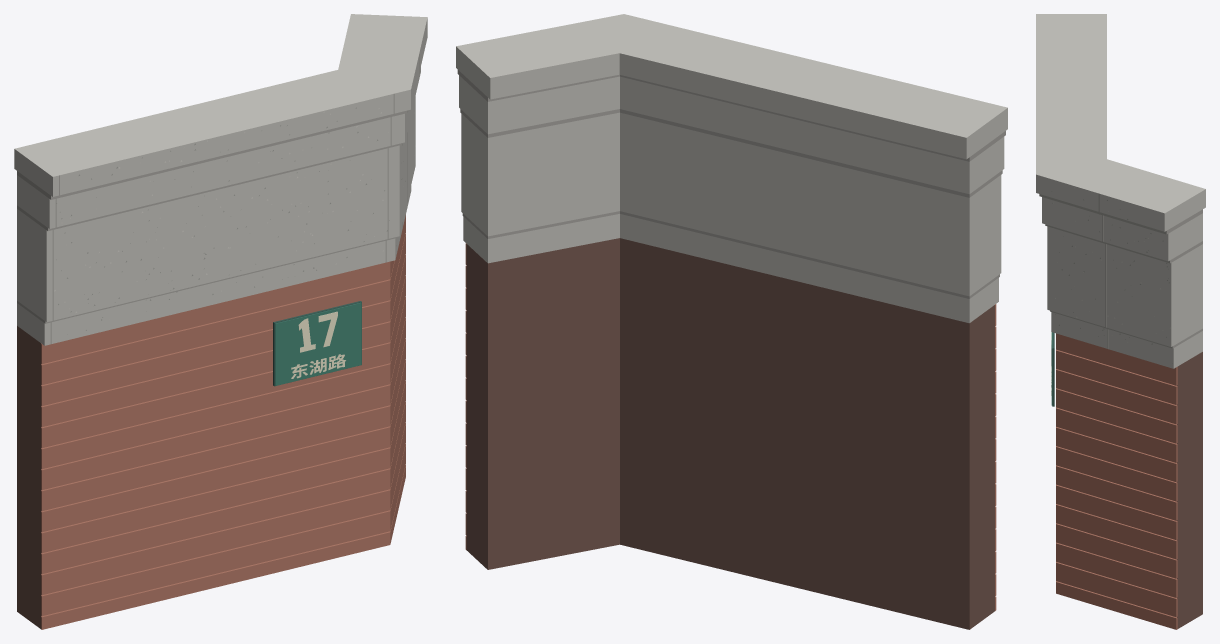
The picture shows the model from 3 angles, left to right: view 1: azimuth 30°, elevation 25°; view 2: azimuth 150°, elevation 25°; view 3: azimuth 270°, elevation 25°; orthographic projection. The views are drawn at different scales.
Parts seen in each view (by area): view 1: 东湖路17号花园住宅门牌与临街围墙; view 2: 东湖路17号花园住宅门牌与临街围墙; view 3: 东湖路17号花园住宅门牌与临街围墙.
Boxes of the visible parts, x1,y1,x2,y2 form: 东湖路17号花园住宅门牌与临街围墙: [14, 14, 427, 629]; 东湖路17号花园住宅门牌与临街围墙: [456, 14, 1007, 629]; 东湖路17号花园住宅门牌与临街围墙: [1036, 14, 1205, 629].
Size of the model in its own units: 1.65 by 1.63 by 0.5931.
